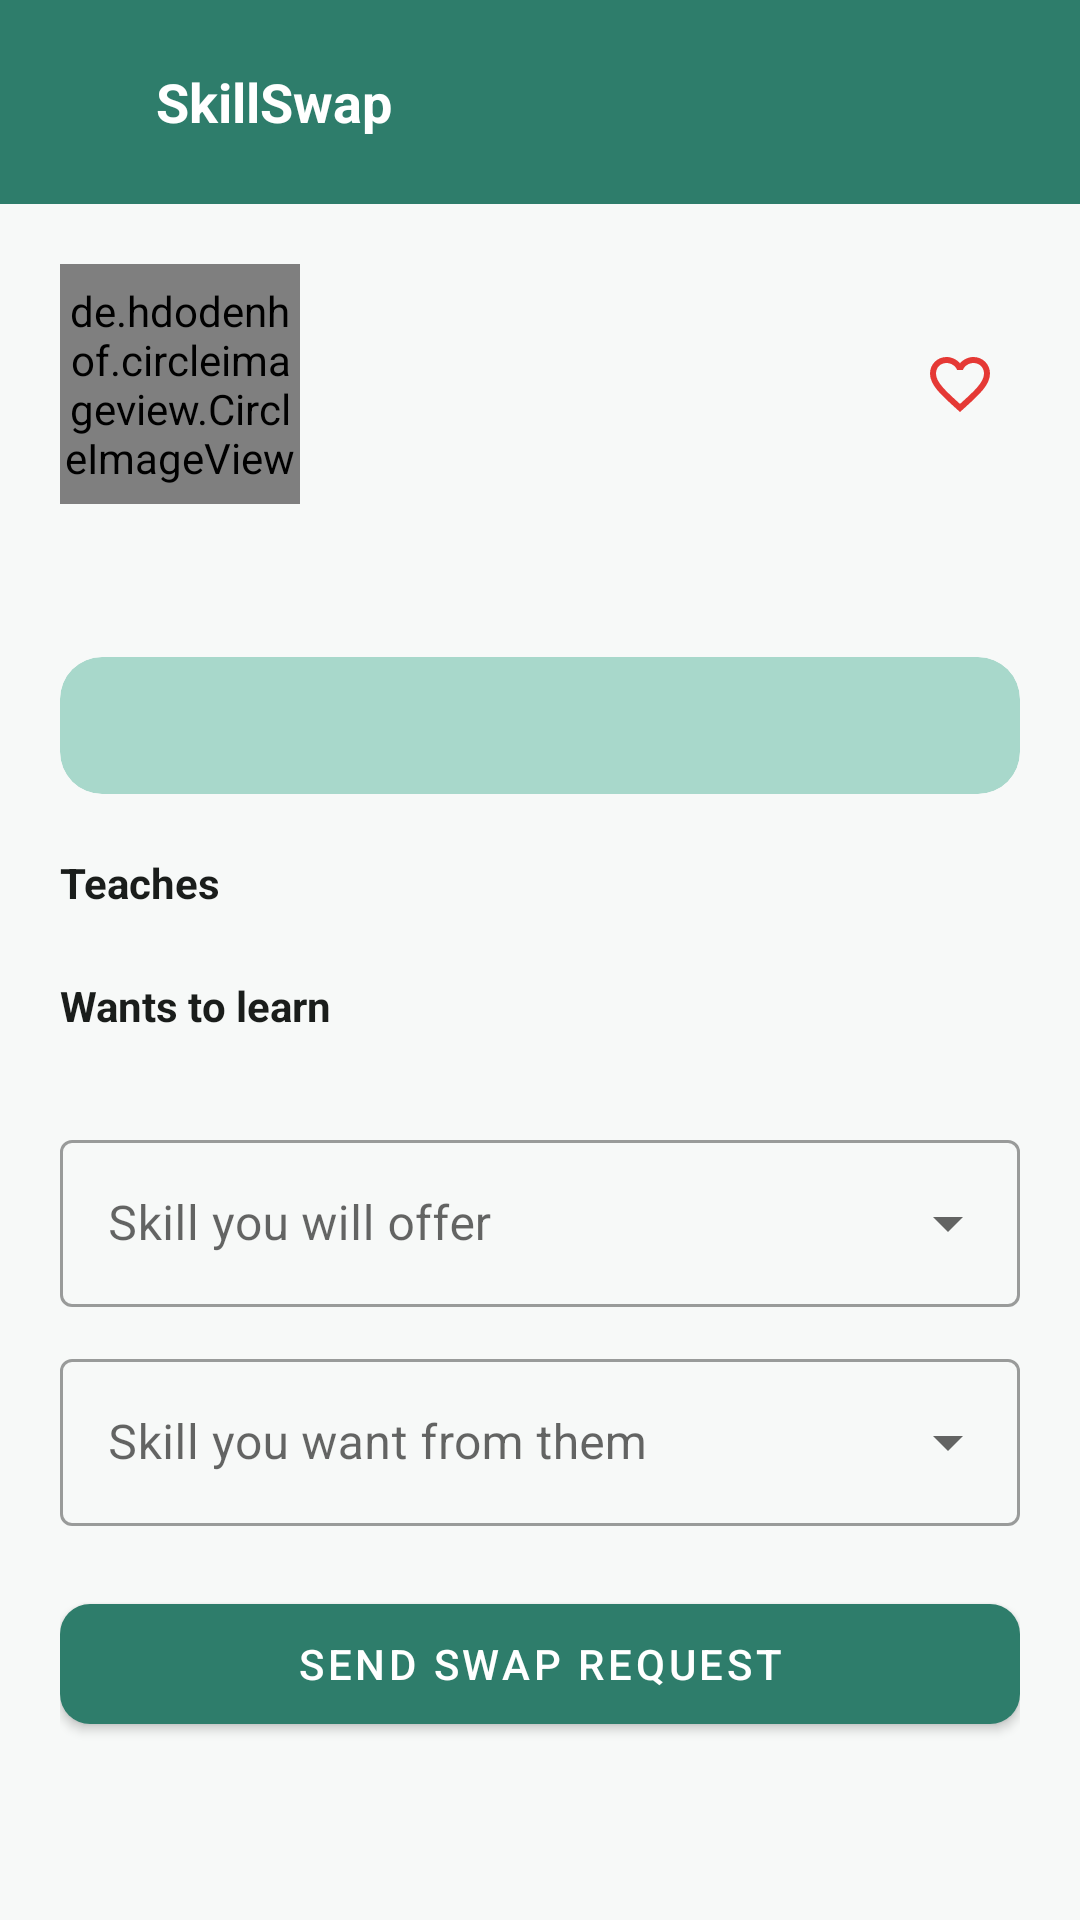

Screen size 1080px×1920px. Icon name, then its box in pixels as [x1,y1,x2,y2]:
Favorite: [930,357,990,412]
